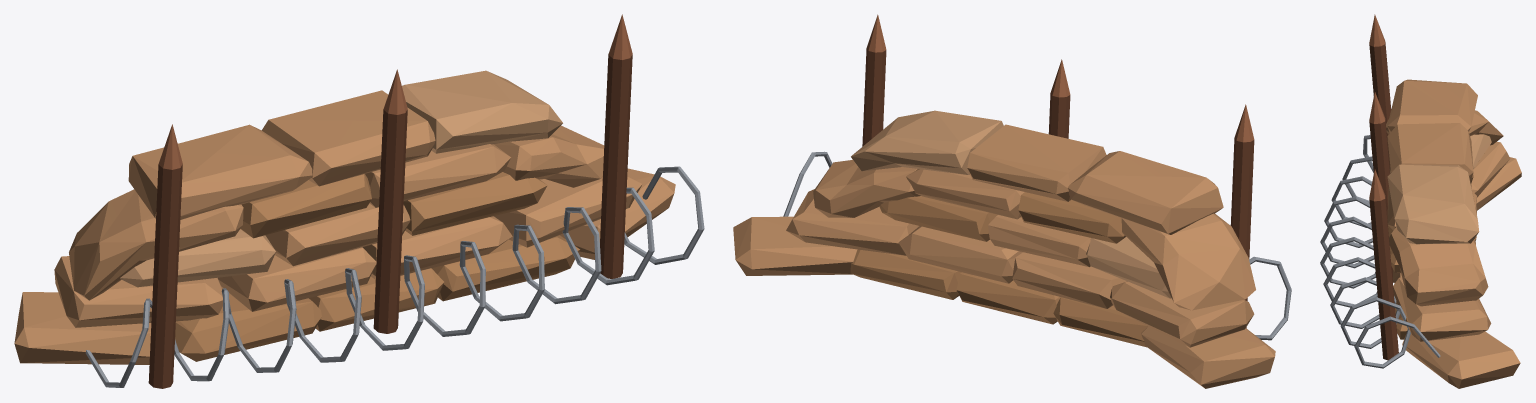
Rendered from SmallFence_04.fbx.
3 views of the same model, side by side, from view 1: azimuth 30°, elevation 25°; view 2: azimuth 150°, elevation 25°; view 3: azimuth 270°, elevation 25° (orthographic). The views are drawn at different scales.
Parts seen in each view (by area): view 1: SmallFence_04; view 2: SmallFence_04; view 3: SmallFence_04.
Part boxes in pixels (box(x1,y1,x2,y2)): SmallFence_04: box(14, 14, 704, 388); SmallFence_04: box(733, 14, 1291, 388); SmallFence_04: box(1320, 14, 1521, 388).
Size of the model in its own units: 326 by 126 by 122.
